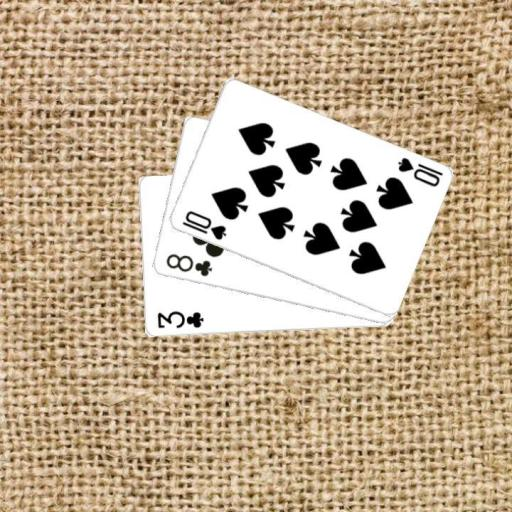10S: (393, 155, 444, 189), (179, 208, 228, 242)
3C: (154, 308, 205, 331)
8C: (162, 250, 213, 278)
